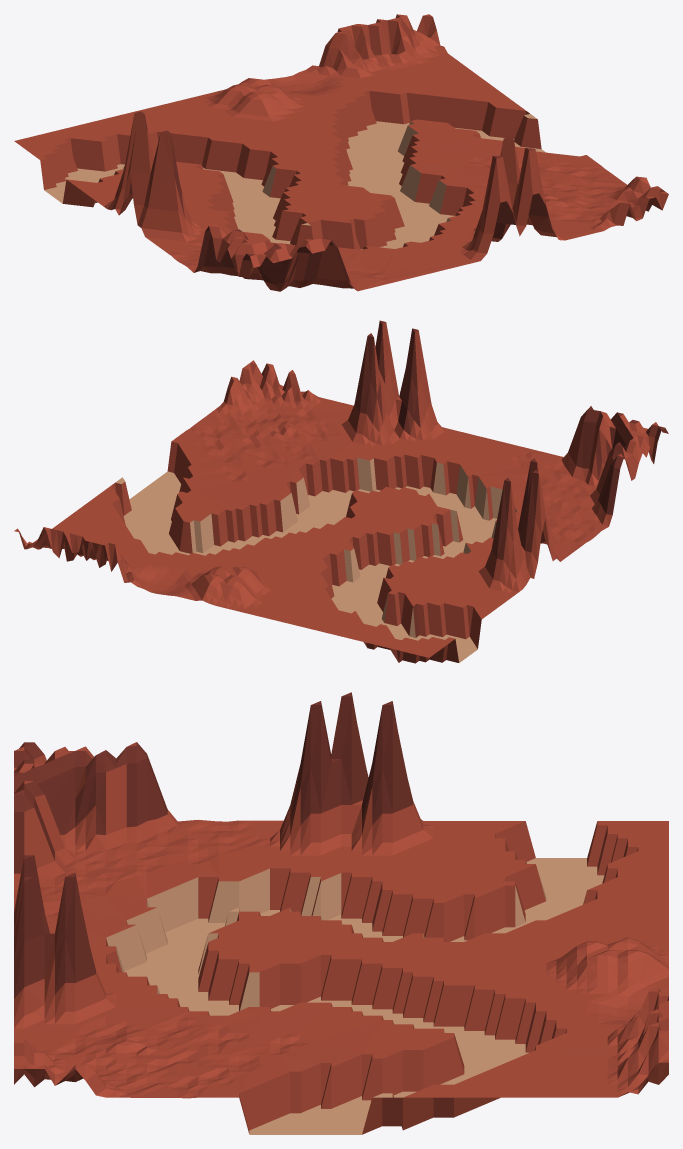
The model's file is Map2.2.dae.
3 renders of one model, top to bottom at view 1: azimuth 30°, elevation 25°; view 2: azimuth 150°, elevation 25°; view 3: azimuth 270°, elevation 25°, orthographic. The views are drawn at different scales.
Parts seen in each view (by area): view 1: Plane; view 2: Plane; view 3: Plane.
Boxes of the visible parts, x1,y1,x2,y2 form: Plane: [14, 14, 668, 291]; Plane: [14, 320, 668, 663]; Plane: [14, 692, 668, 1134].
Bounding box in the file's own units: 15.98 × 15.98 × 4.58.
